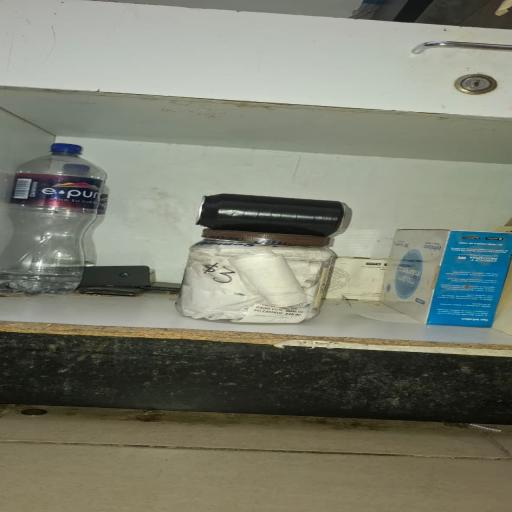LATA: (190, 186, 384, 245)
